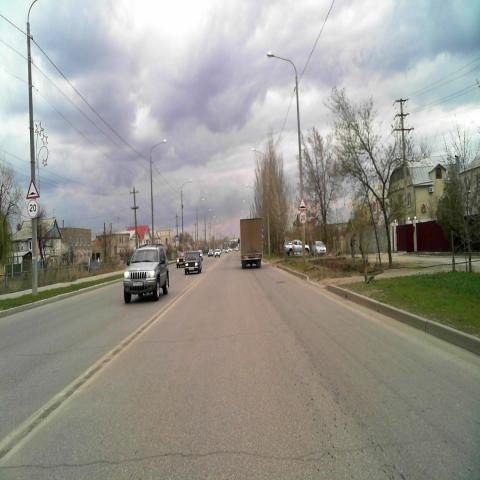1_17: (25, 178, 40, 198), (298, 197, 306, 211)
